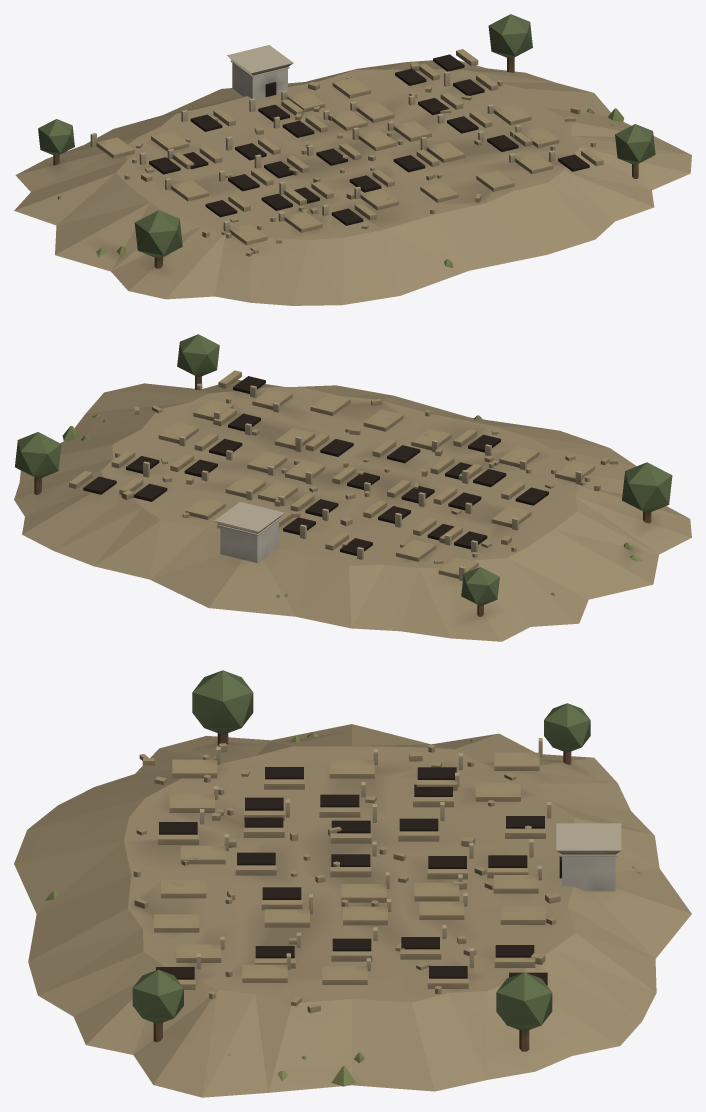
Rendered from juno-necropolis.glb.
3 views of the same model, one above another, from view 1: azimuth 30°, elevation 25°; view 2: azimuth 150°, elevation 25°; view 3: azimuth 270°, elevation 25° (orthographic). The views are drawn at different scales.
Parts seen in each view (by area): view 1: p0_hill, p1_tombs, p2_chapel; view 2: p0_hill, p1_tombs, p2_chapel; view 3: p0_hill, p1_tombs, p2_chapel.
Boxes of the visible parts, bbox=[...] form: p0_hill: bbox=[14, 60, 691, 305]; p1_tombs: bbox=[90, 49, 603, 245]; p2_chapel: bbox=[38, 14, 655, 268]; p0_hill: bbox=[14, 380, 691, 641]; p1_tombs: bbox=[69, 370, 595, 580]; p2_chapel: bbox=[15, 334, 672, 616]; p0_hill: bbox=[14, 724, 691, 1097]; p1_tombs: bbox=[154, 738, 551, 989]; p2_chapel: bbox=[45, 670, 642, 1086].
Size of the model in its own units: 82.15 by 9.14 by 62.99.
